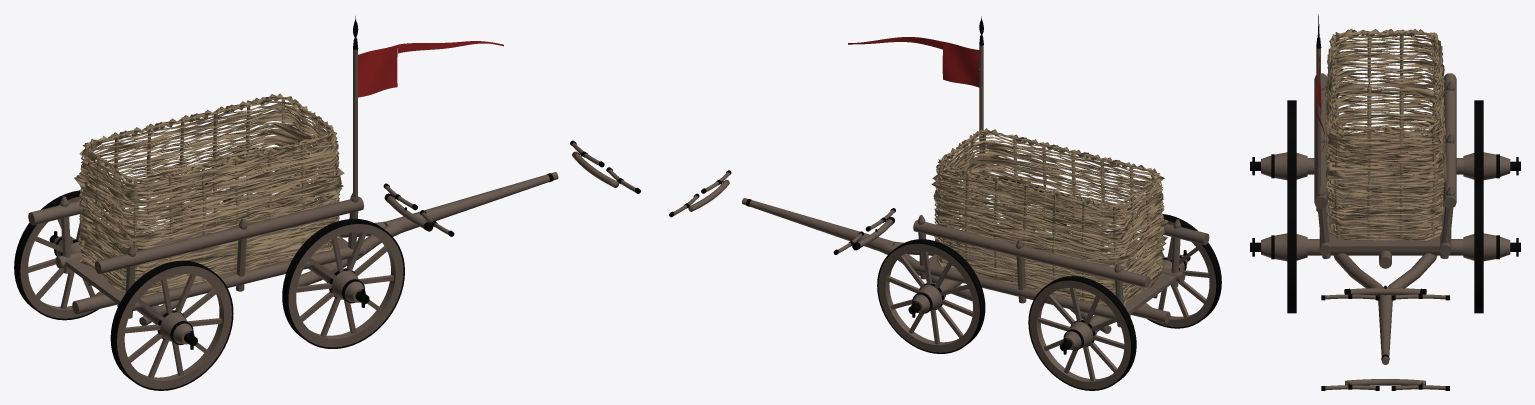
Rendered from vuz_proutenny.glb.
3 renders of one model, left to right at view 1: azimuth 30°, elevation 25°; view 2: azimuth 150°, elevation 25°; view 3: azimuth 270°, elevation 25°, orthographic. The views are drawn at different scales.
Parts seen in each view (by area): view 1: staticke, kolo_ZR, kolo_PR, kolo_ZL; view 2: staticke, kolo_PL, kolo_ZL, kolo_ZR; view 3: staticke, kolo_PL, kolo_PR, kolo_ZL, kolo_ZR.
Boxes of the visible parts, left/top/right/bottom form: staticke: left=28, top=16, right=640, bottom=325; kolo_ZR: left=110, top=260, right=233, bottom=390; kolo_PR: left=282, top=218, right=404, bottom=348; kolo_ZL: left=14, top=190, right=130, bottom=320; staticke: left=669, top=16, right=1209, bottom=333; kolo_PL: left=877, top=239, right=985, bottom=353; kolo_ZL: left=1028, top=276, right=1136, bottom=390; kolo_ZR: left=1116, top=214, right=1221, bottom=328; staticke: left=1307, top=14, right=1463, bottom=390; kolo_PL: left=1463, top=181, right=1520, bottom=313; kolo_PR: left=1250, top=181, right=1307, bottom=313; kolo_ZL: left=1463, top=100, right=1520, bottom=181; kolo_ZR: left=1250, top=100, right=1307, bottom=181.
Bounding box in the file's own units: 7.6 × 4.21 × 3.39.
